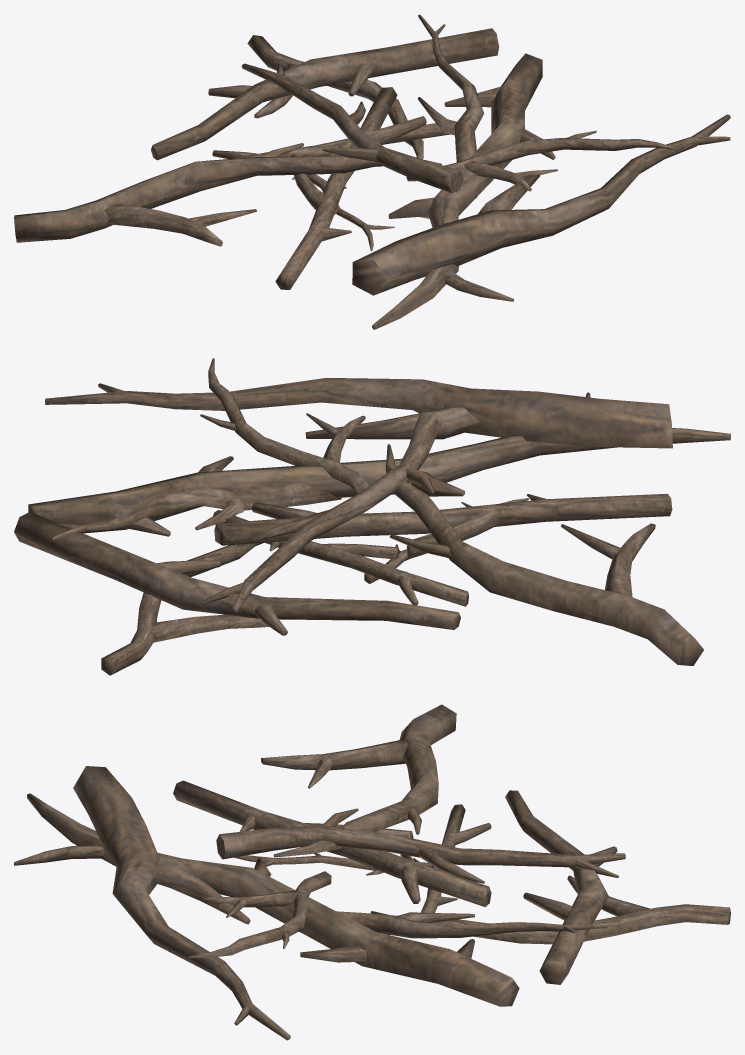
File: CollectibleBranch (1).fbx
The picture shows the model from 3 angles, top to bottom: view 1: azimuth 30°, elevation 25°; view 2: azimuth 150°, elevation 25°; view 3: azimuth 270°, elevation 25°; orthographic projection. The views are drawn at different scales.
Visible parts, largest first — view 1: ItemBox_Branch_01; view 2: ItemBox_Branch_01; view 3: ItemBox_Branch_01.
Part boxes in pixels (box(x1,y1,x2,y2)): ItemBox_Branch_01: box(14, 14, 730, 329); ItemBox_Branch_01: box(14, 358, 730, 675); ItemBox_Branch_01: box(14, 704, 730, 1040).
Size of the model in its own units: 1.94 by 0.1879 by 1.76.
1 material, 1 textured.
